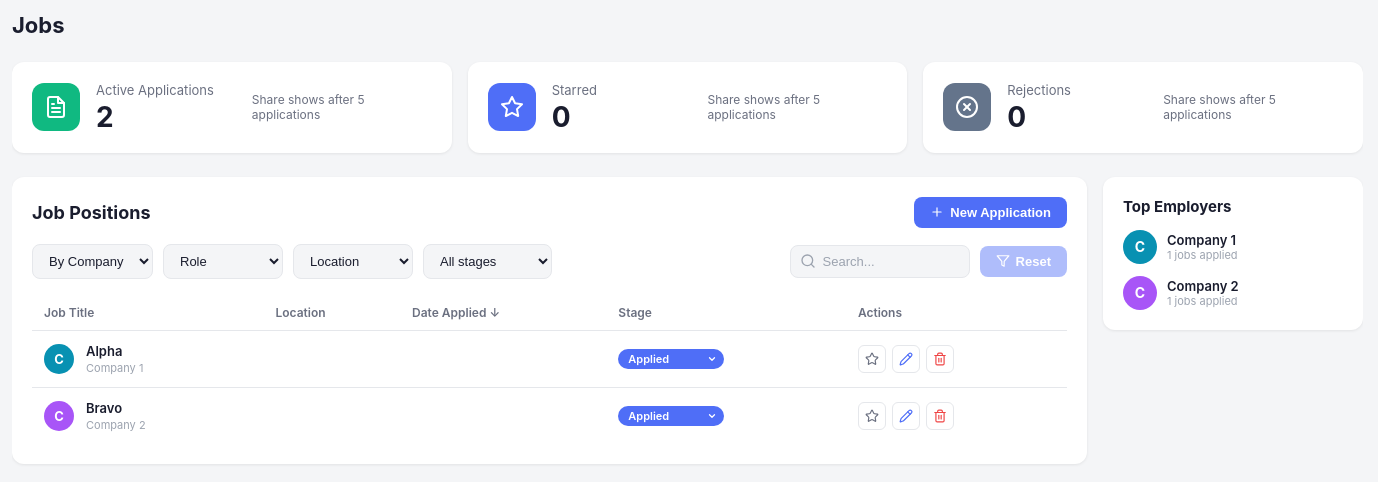
Scenario: Jobs filter reset › is disabled until a filter is set, then clears search and dropdowns
expect the button "Reset" is disabled: met, box [980,246,1067,277]
Type "alpha" into the field with placeholder "Search...".
click(880, 261); type("alpha")  # box [790,245,970,278]
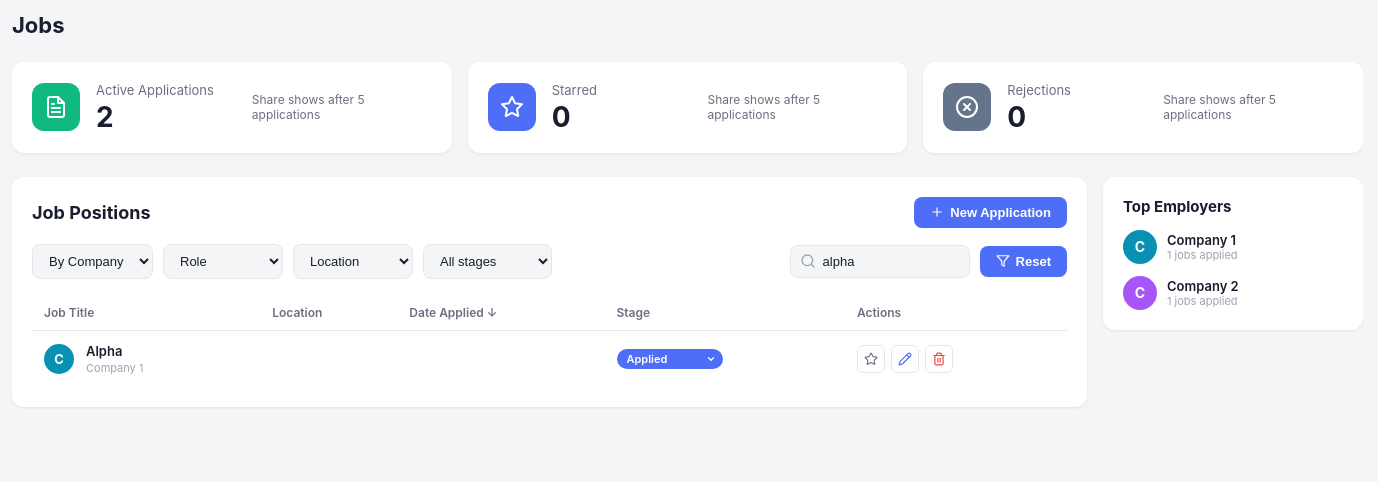
Select "Company 1" in the 1st dropdown showing "By Company" at (92, 261), box [32,244,153,279]
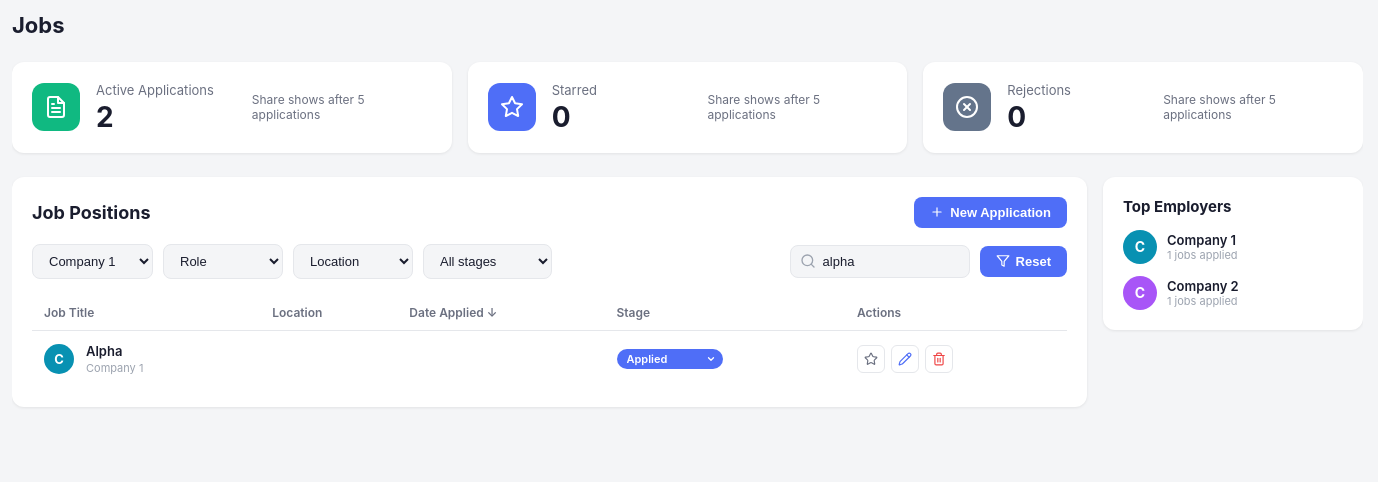
expect the button "Reset" is enabled: met
Click the button "Reset".
click(1023, 261)  # box [980,246,1067,277]
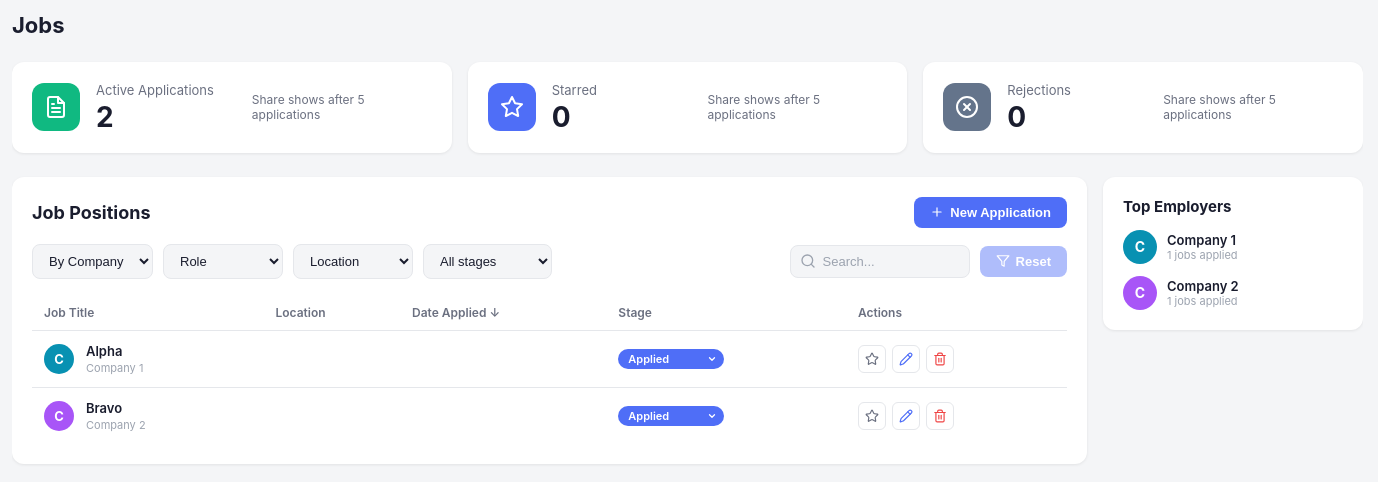
expect the field with placeholder "Search..." is empty: met, box [790,245,970,278]
expect the button "Reset" is disabled: met, box [980,246,1067,277]
